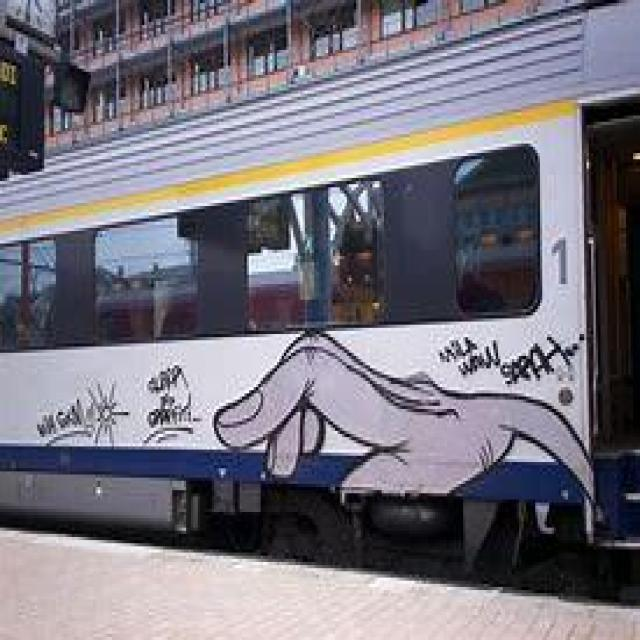nonspitting: (435, 334, 584, 384), (34, 378, 134, 451), (142, 362, 202, 447)
spitting: (215, 328, 594, 504)
